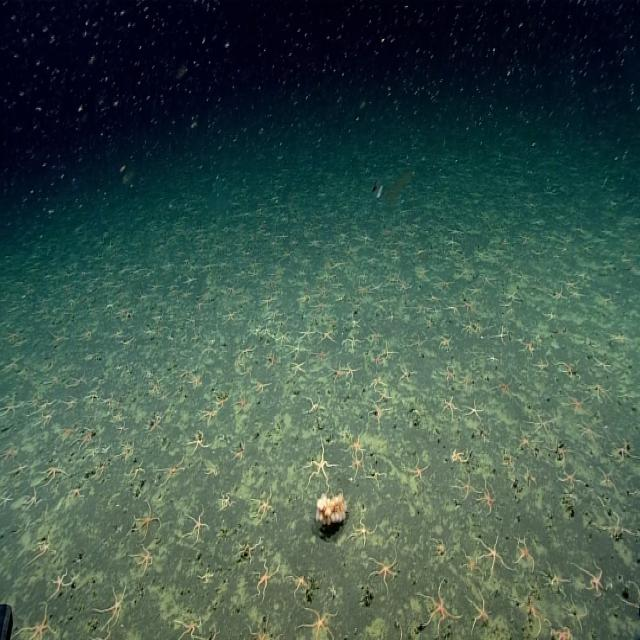brittle-stars: (417, 586, 452, 631), (15, 604, 55, 640), (595, 506, 632, 542), (301, 605, 336, 640), (98, 582, 127, 624), (306, 442, 333, 486), (476, 534, 505, 574), (369, 549, 397, 586), (134, 504, 161, 541), (576, 561, 604, 595), (250, 486, 276, 522), (255, 558, 278, 596), (468, 590, 491, 628), (185, 508, 208, 544), (160, 454, 184, 488), (543, 560, 566, 595), (173, 614, 202, 640), (516, 539, 536, 576), (352, 515, 374, 547), (50, 567, 72, 598), (133, 546, 155, 575), (33, 534, 56, 560), (22, 485, 44, 511), (578, 420, 598, 448), (455, 476, 478, 498), (1, 396, 22, 420), (558, 466, 580, 488), (46, 460, 66, 483), (532, 414, 552, 437), (466, 399, 484, 424), (551, 620, 573, 640), (190, 431, 207, 456), (464, 553, 481, 578), (515, 427, 532, 452), (74, 430, 94, 451), (410, 459, 429, 481), (442, 395, 458, 420), (346, 434, 365, 455), (567, 391, 583, 415), (290, 572, 308, 592), (343, 362, 361, 382), (496, 376, 512, 398), (370, 400, 386, 422), (480, 488, 496, 509), (350, 455, 367, 474), (56, 425, 74, 442), (451, 446, 468, 464), (69, 482, 85, 501), (147, 415, 163, 433), (118, 443, 134, 461), (441, 365, 456, 384), (220, 491, 234, 511), (189, 371, 203, 391), (345, 333, 359, 353), (200, 408, 216, 425), (238, 341, 254, 358), (254, 378, 269, 396), (399, 365, 413, 384), (234, 393, 247, 413), (290, 361, 306, 377), (366, 328, 382, 344), (320, 328, 336, 344), (0, 490, 14, 508), (300, 326, 314, 343), (316, 347, 330, 364), (495, 326, 508, 344), (459, 371, 472, 389), (371, 375, 384, 393), (332, 361, 344, 380), (289, 343, 303, 359), (461, 298, 475, 314), (276, 329, 290, 345), (115, 421, 128, 438), (439, 334, 452, 351), (214, 394, 228, 409), (224, 307, 236, 324), (258, 294, 272, 308), (314, 299, 327, 314), (149, 280, 161, 294), (184, 273, 196, 287), (114, 410, 123, 422)
